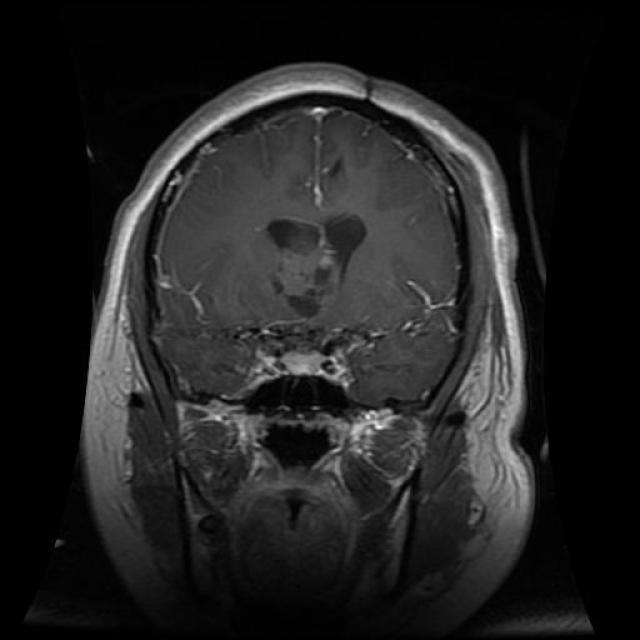glioma: (262, 208, 376, 320)
